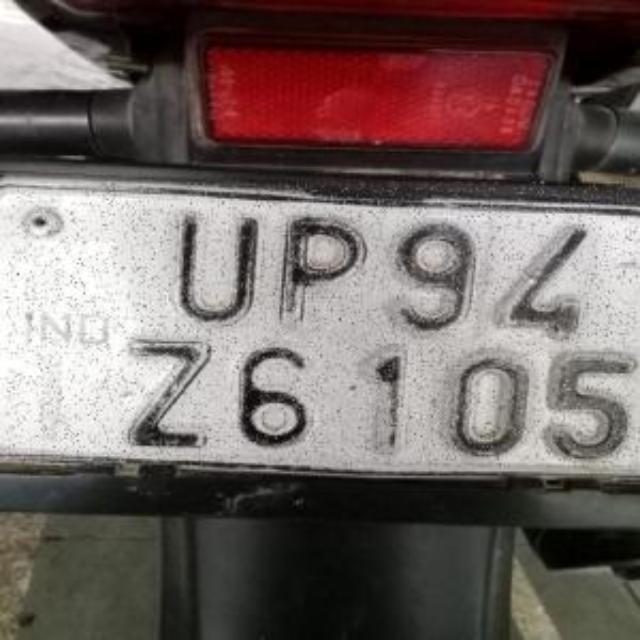License Plate: (6, 183, 640, 467)
